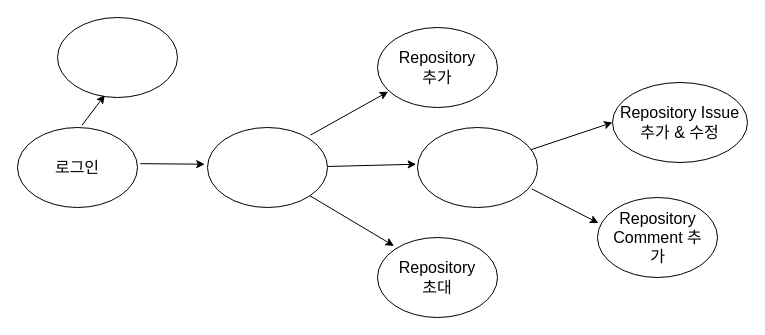
This 765x335 diagram has some shape labels left out. Here are the shapes that lost their labels. From the top down, the centre of each, then its label:
point 117,57: 회원가입
point 267,167: Repository 내역 확인
point 477,167: Repository 내 Issue 확인
